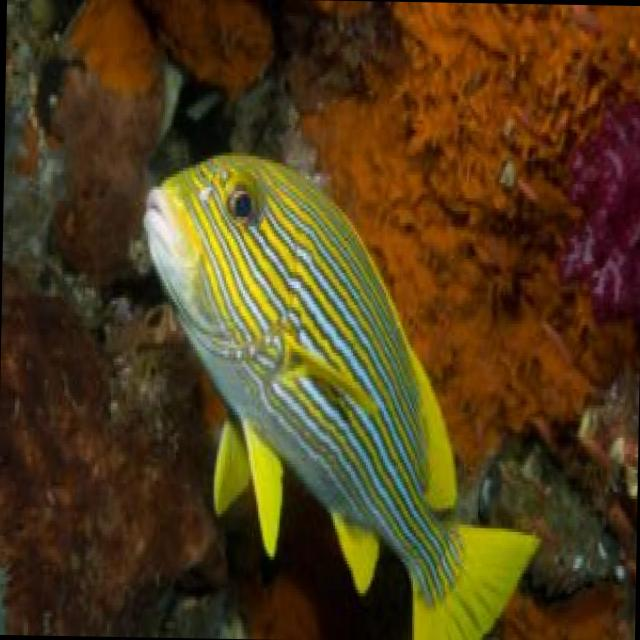RibbonedSweetlips: (132, 149, 549, 640)
